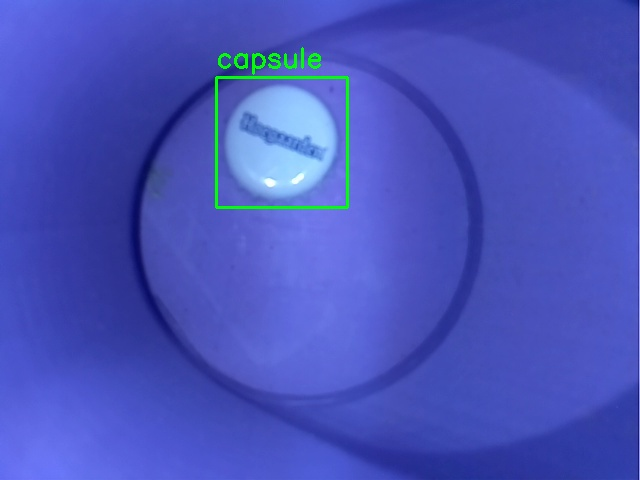capsule: (216, 77, 347, 207)
